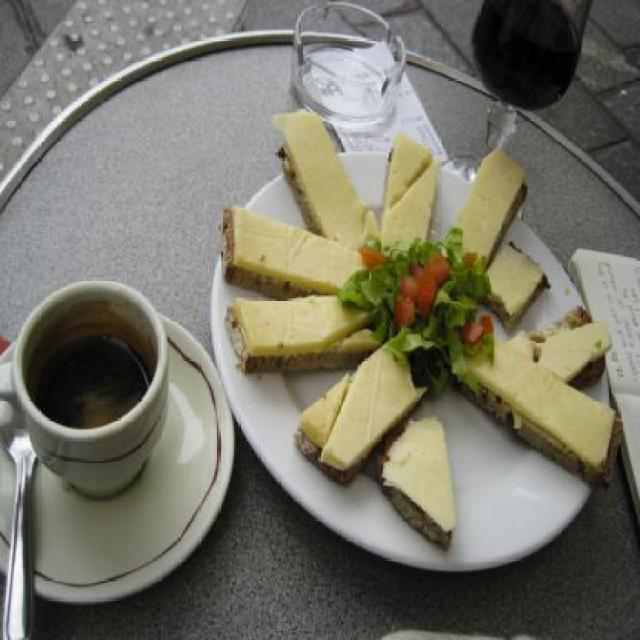Cheese: (462, 329, 620, 469), (292, 336, 434, 476), (267, 103, 376, 249), (232, 205, 368, 288), (375, 412, 451, 540), (232, 293, 374, 359), (452, 144, 530, 264), (372, 134, 436, 251), (540, 316, 616, 384), (484, 236, 544, 318)
